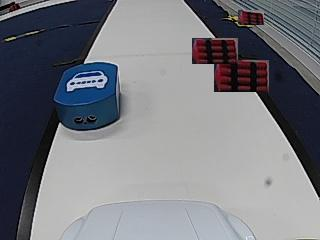safety: (67, 70, 109, 91)
